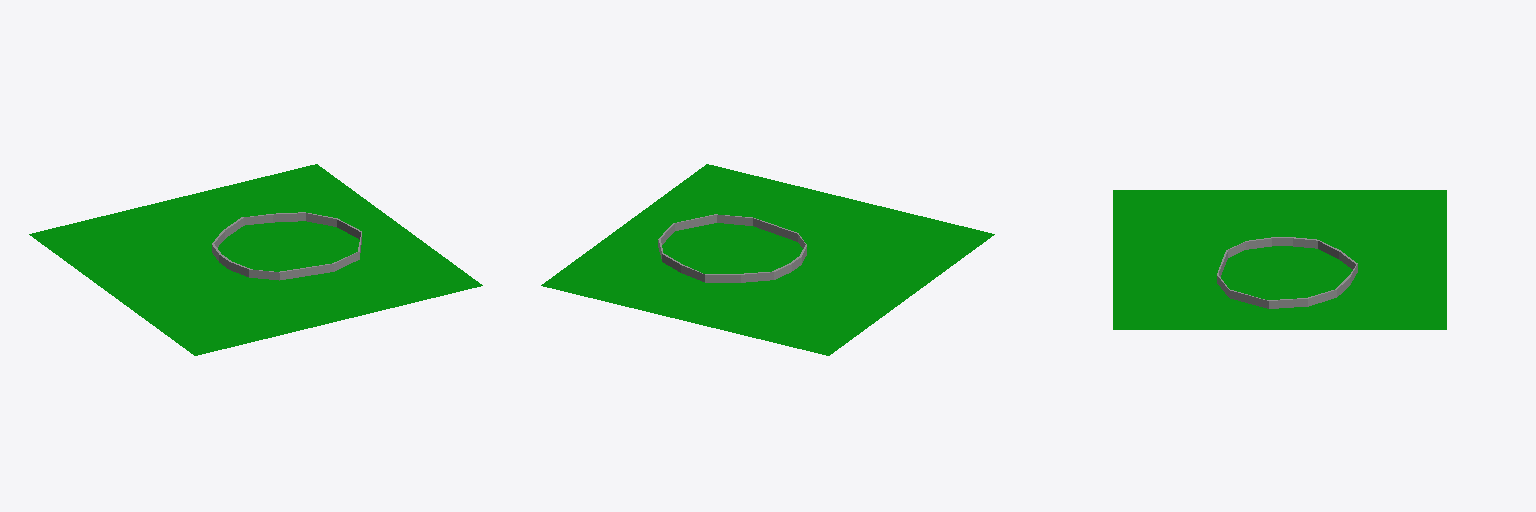
The picture shows the model from 3 angles: view 1: azimuth 30°, elevation 25°; view 2: azimuth 150°, elevation 25°; view 3: azimuth 270°, elevation 25°; orthographic projection.
Visible parts, largest first — view 1: Plane, Wall_Cube; view 2: Plane, Wall_Cube; view 3: Plane, Wall_Cube.
Part boxes in pixels (bbox=[...]): Plane: bbox=[29, 164, 482, 355]; Wall_Cube: bbox=[212, 212, 361, 280]; Plane: bbox=[541, 164, 994, 355]; Wall_Cube: bbox=[658, 214, 806, 282]; Plane: bbox=[1113, 190, 1446, 329]; Wall_Cube: bbox=[1217, 237, 1357, 308].
Size of the model in its own units: 84.3 by 2.26 by 84.3.